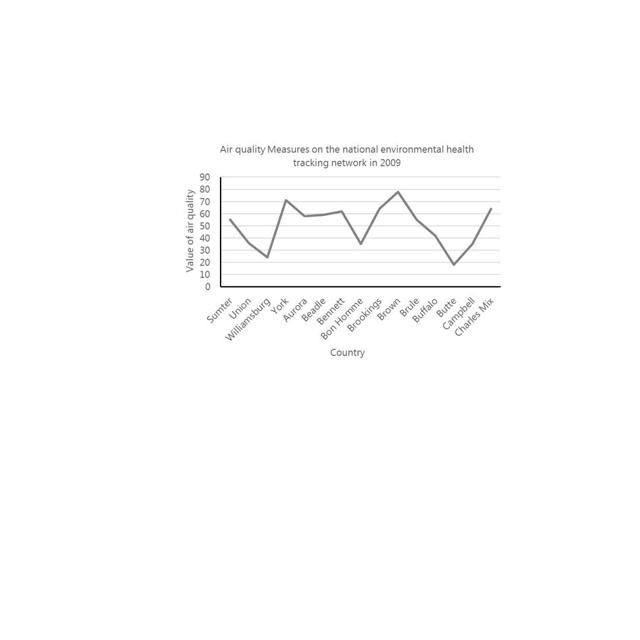Graph: (178, 136, 506, 364)
